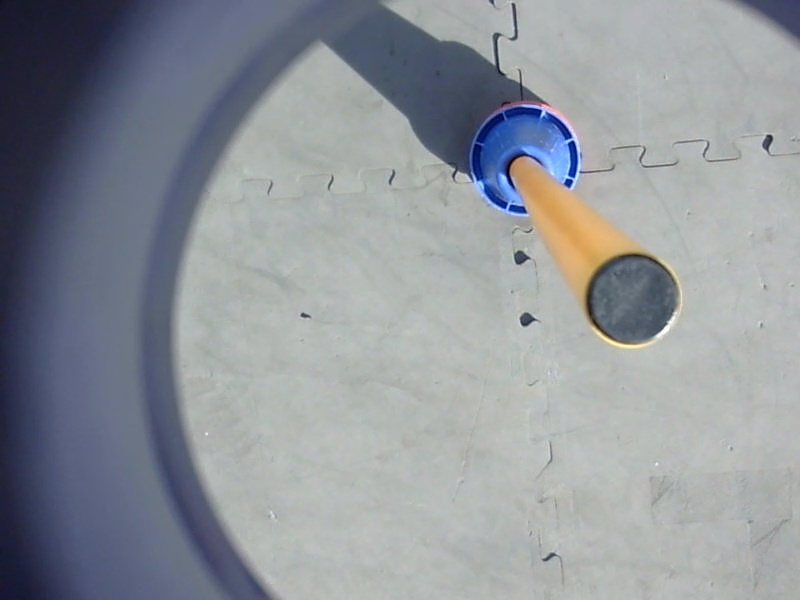tip: (577, 246, 689, 358)
